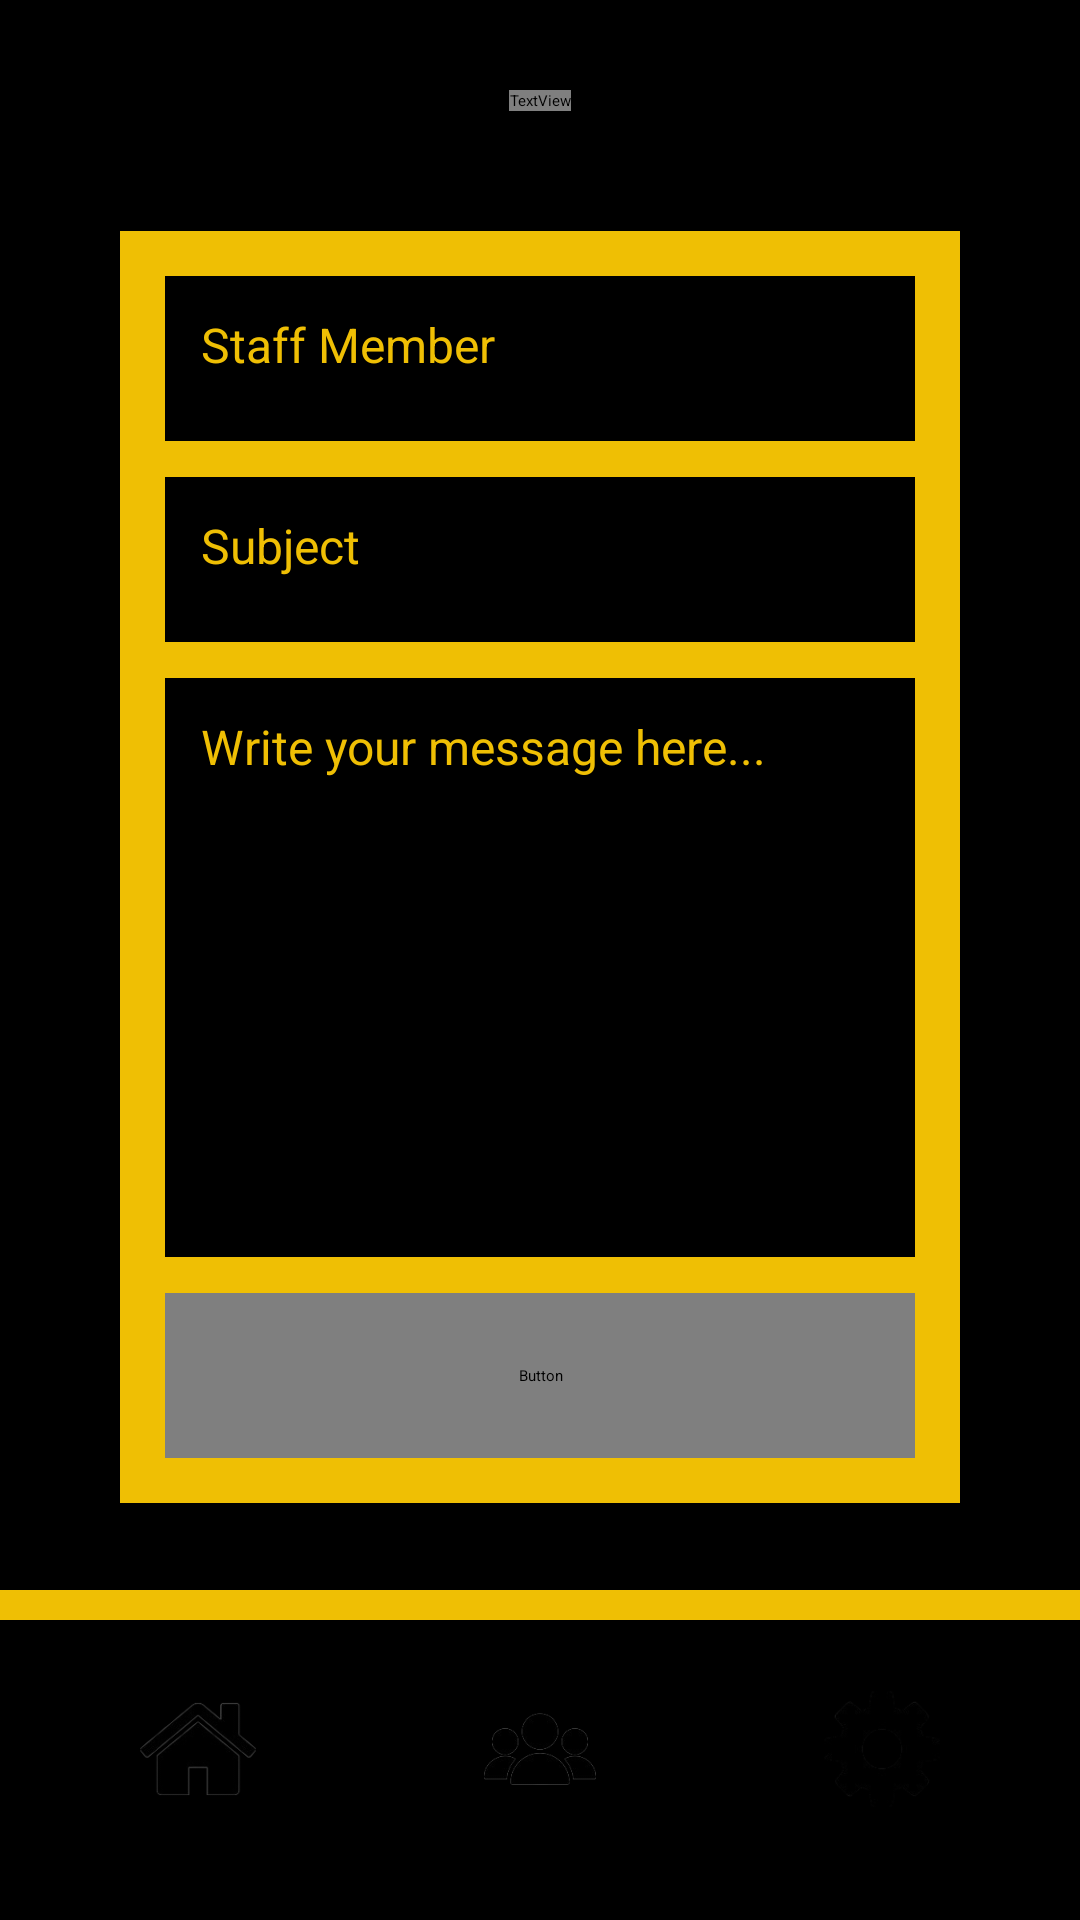

Point at icon controls on the screen. Image size 1080*1920, points as (x=x, y=y).
house: (x=198, y=1749)
staff: (x=540, y=1749)
